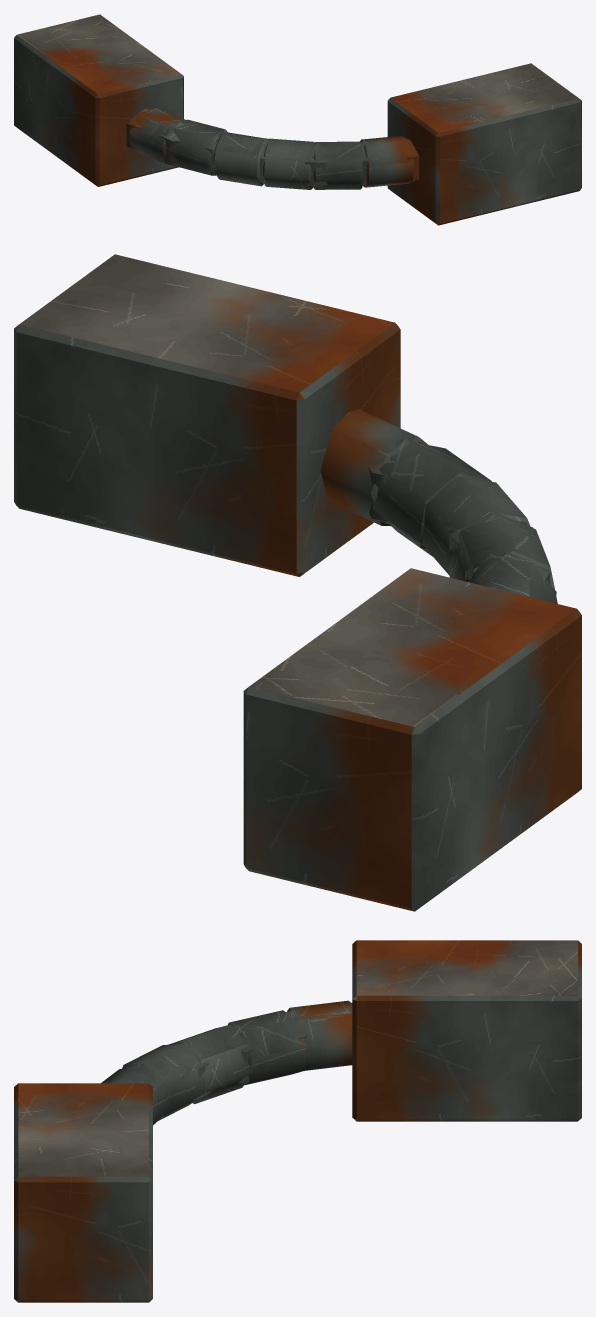
The model's file is R4C_ROD_ARC_SHORT_LOD1.glb.
3 views of the same model, one above another, from view 1: azimuth 30°, elevation 25°; view 2: azimuth 150°, elevation 25°; view 3: azimuth 270°, elevation 25° (orthographic). The views are drawn at different scales.
Visible parts, largest first — view 1: R4C_ROD_ARC_SHORT_LOD1; view 2: R4C_ROD_ARC_SHORT_LOD1; view 3: R4C_ROD_ARC_SHORT_LOD1.
Part boxes in pixels (x1,y1,x2,y2): R4C_ROD_ARC_SHORT_LOD1: (14, 14, 581, 225); R4C_ROD_ARC_SHORT_LOD1: (14, 254, 581, 911); R4C_ROD_ARC_SHORT_LOD1: (14, 940, 581, 1302).
Bounding box in the file's own units: 0.923 × 0.226 × 0.923.
Materials: 2 (2 with a texture image).
